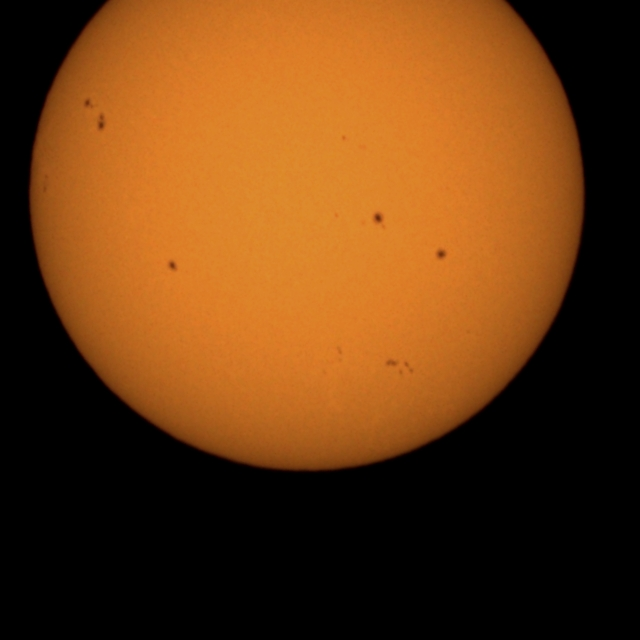sunspot: (83, 95, 106, 134), (385, 357, 415, 378), (360, 210, 388, 232), (95, 111, 107, 133), (434, 247, 448, 262), (41, 173, 50, 196), (334, 344, 344, 364), (166, 259, 179, 273), (333, 211, 340, 219), (340, 134, 347, 142)
